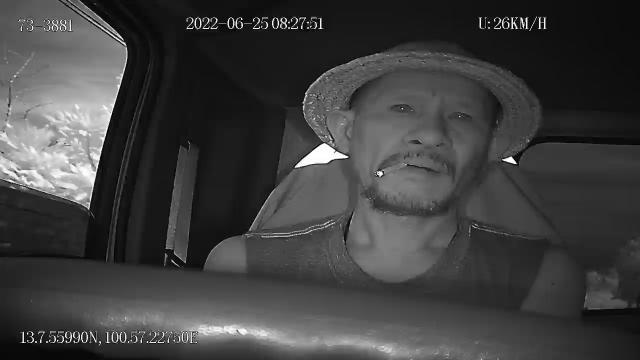SafeDriving: (384, 94, 422, 118), (440, 103, 478, 127)
Smoking: (374, 160, 408, 180)
